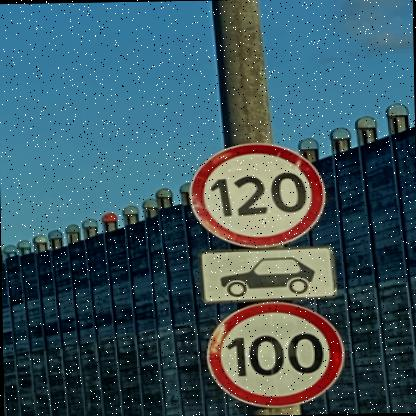speedlimit: (204, 300, 344, 406), (186, 140, 323, 246)
